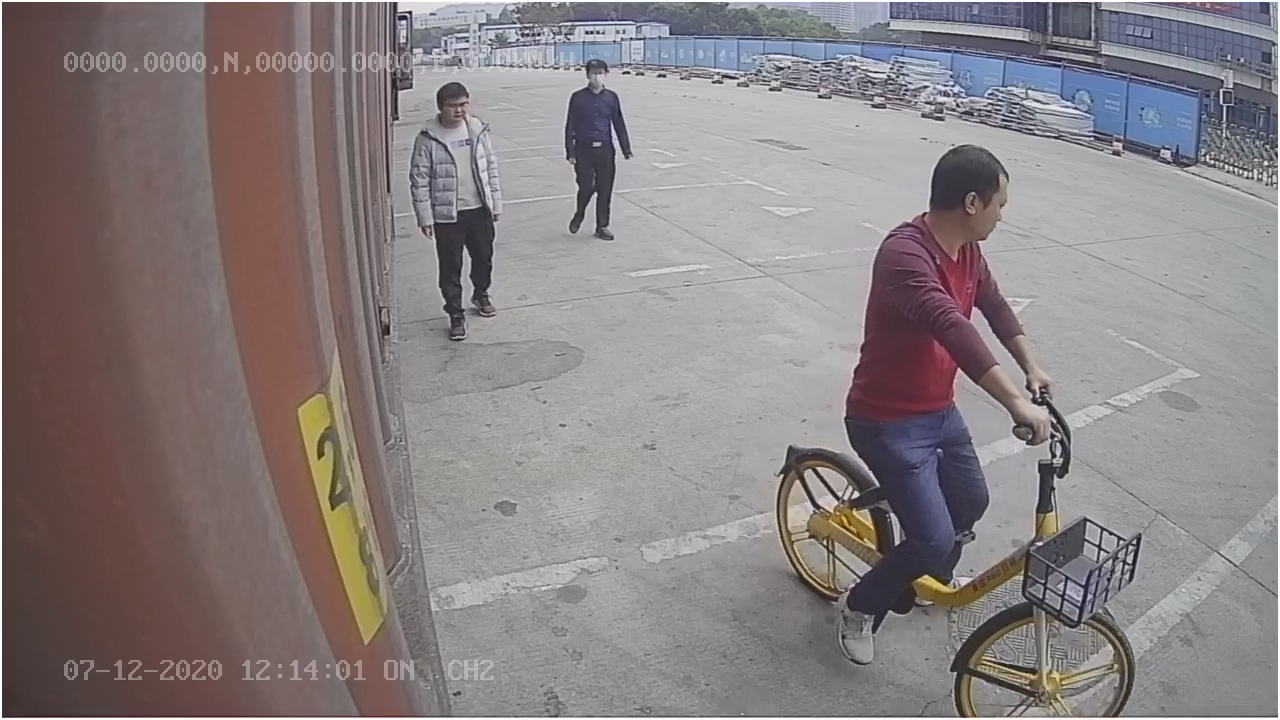person: (411, 76, 506, 344), (548, 50, 641, 250)
